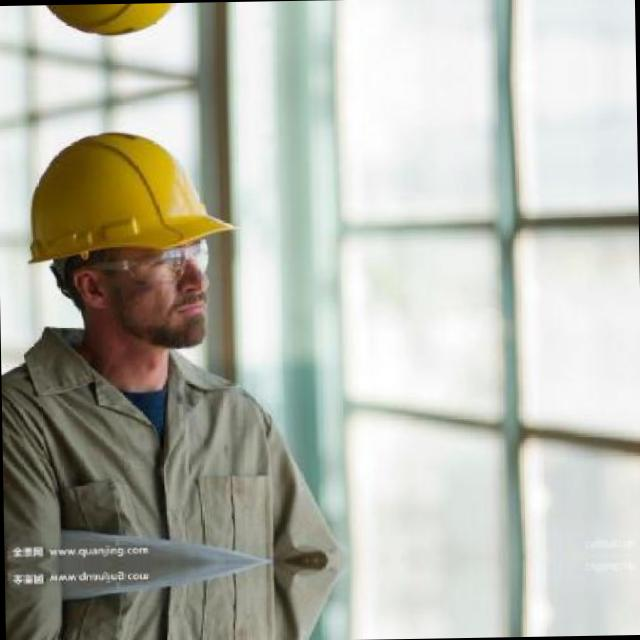helmet: (16, 88, 250, 390), (12, 1, 244, 80)
